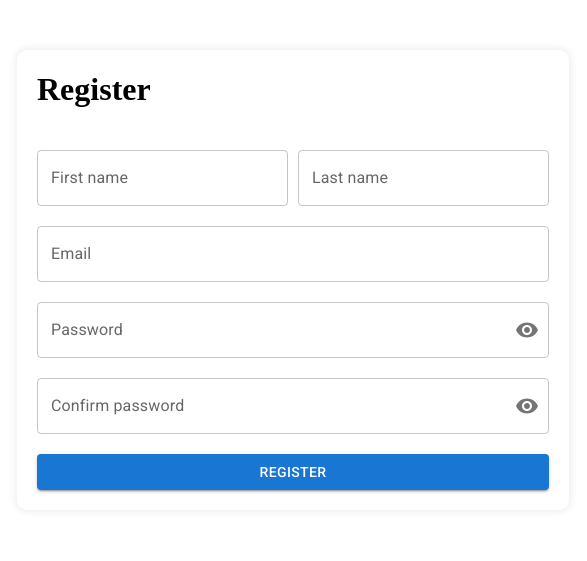
Test case: Register Component › should render an error message when the password do not match
Type "12345678" into the password field labelled "Password". click: (268, 330)
box: [37, 302, 499, 358]
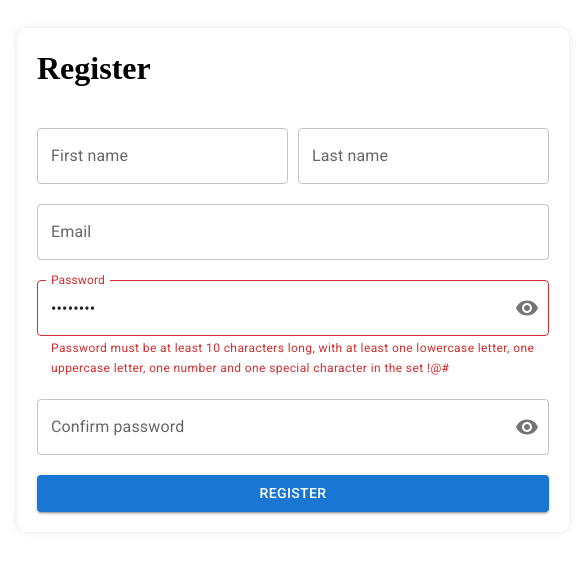
Type "123456789" into the password field labelled "Confirm password". click: (268, 427)
box: [37, 399, 499, 455]
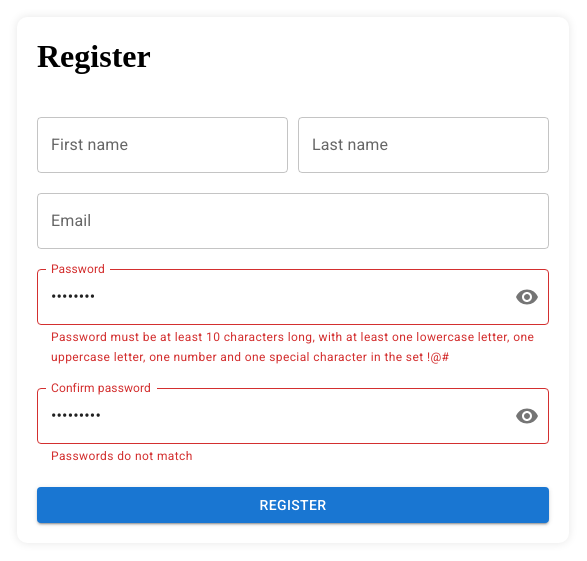
Now the text "Passwords do not match" is shown, box [51, 449, 193, 463]
